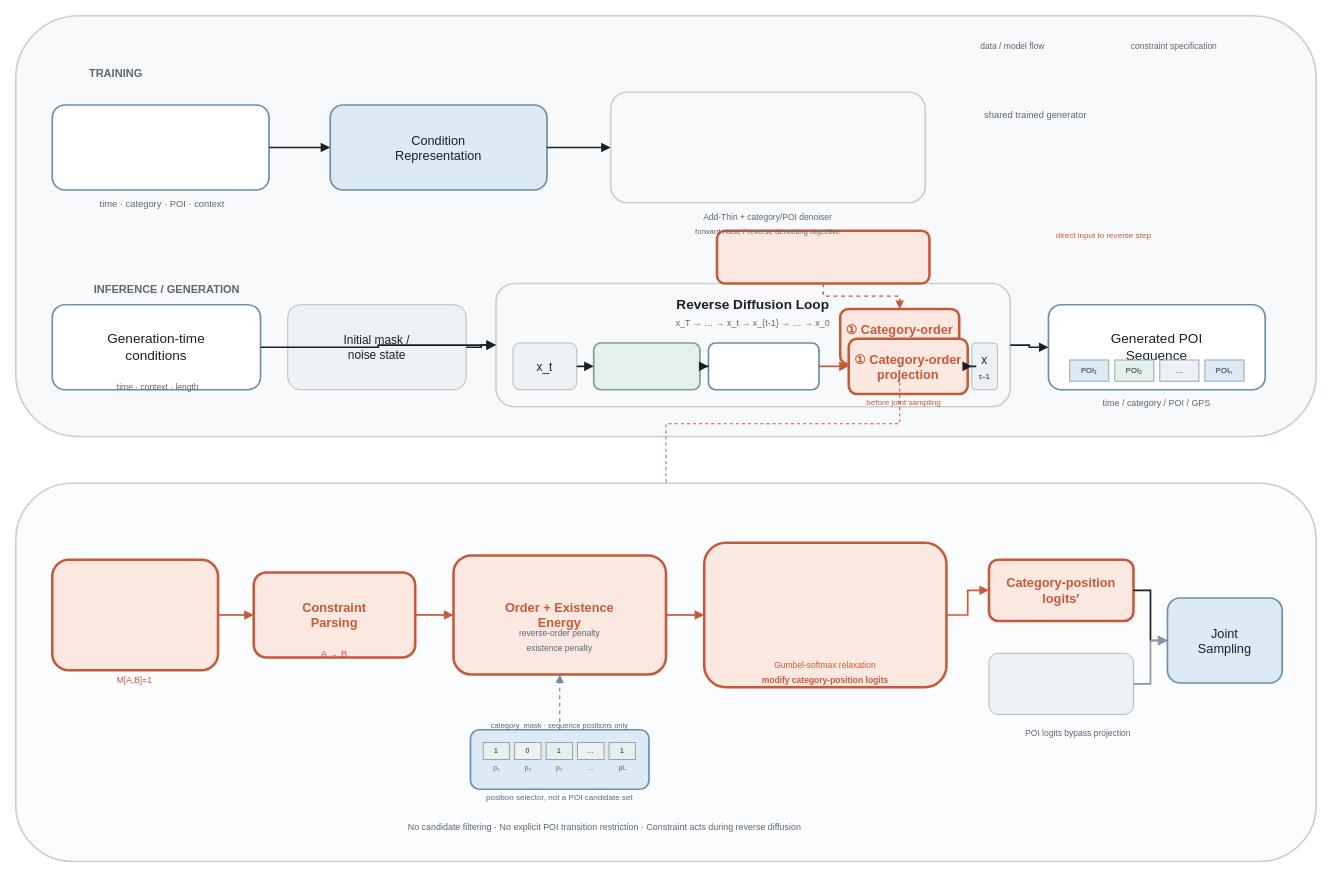
Image size: 1331x876. Some labels were removed from this diagram. The box of each missing label's shape, as (x1, y1, x2, y2) in pixels:
(a) Overall Framework: (14, 14, 1317, 437)
(b) Category-order Constraint Mechanism · ① Detail: (14, 482, 1317, 862)
Category-position logits: (707, 342, 819, 390)
Category-position Mask: (469, 728, 649, 790)
Conditional temporal + discrete diffusion training: (609, 91, 926, 203)
Constraint specification po_matrix: (715, 229, 930, 284)
Denoising: (592, 342, 700, 390)
KL-preserving ALM Projection: (703, 541, 947, 688)
Observed POI event sequences: (51, 104, 269, 190)
POI logits (unchanged): (988, 652, 1133, 714)
Sample-level po_matrix: (51, 558, 219, 671)
